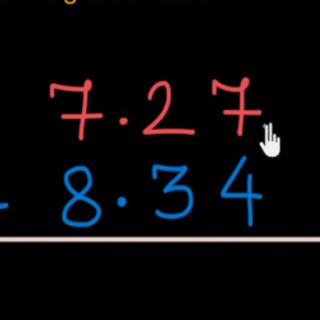.: (112, 192, 131, 215), (118, 110, 130, 132)
2: (137, 74, 198, 140)
3: (144, 157, 202, 223)
4: (215, 153, 267, 231)
7: (46, 76, 107, 142), (206, 76, 267, 142)
8: (50, 162, 108, 228)
